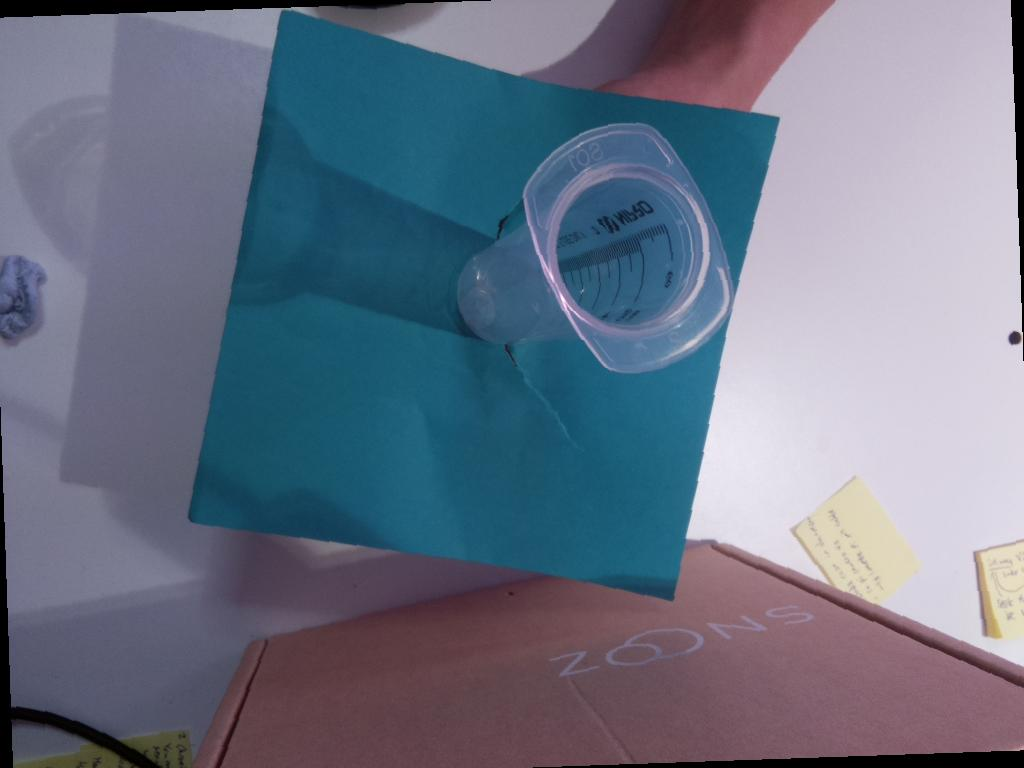clean: (520, 117, 738, 377)
